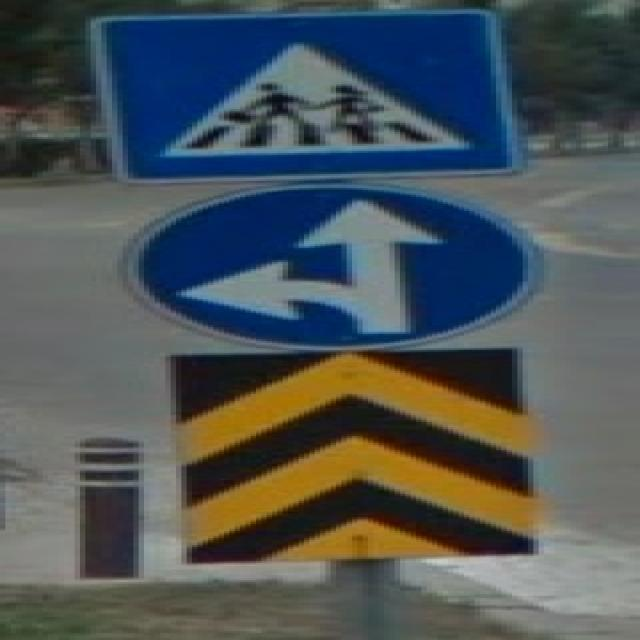Straight or Left: (124, 180, 550, 353)
